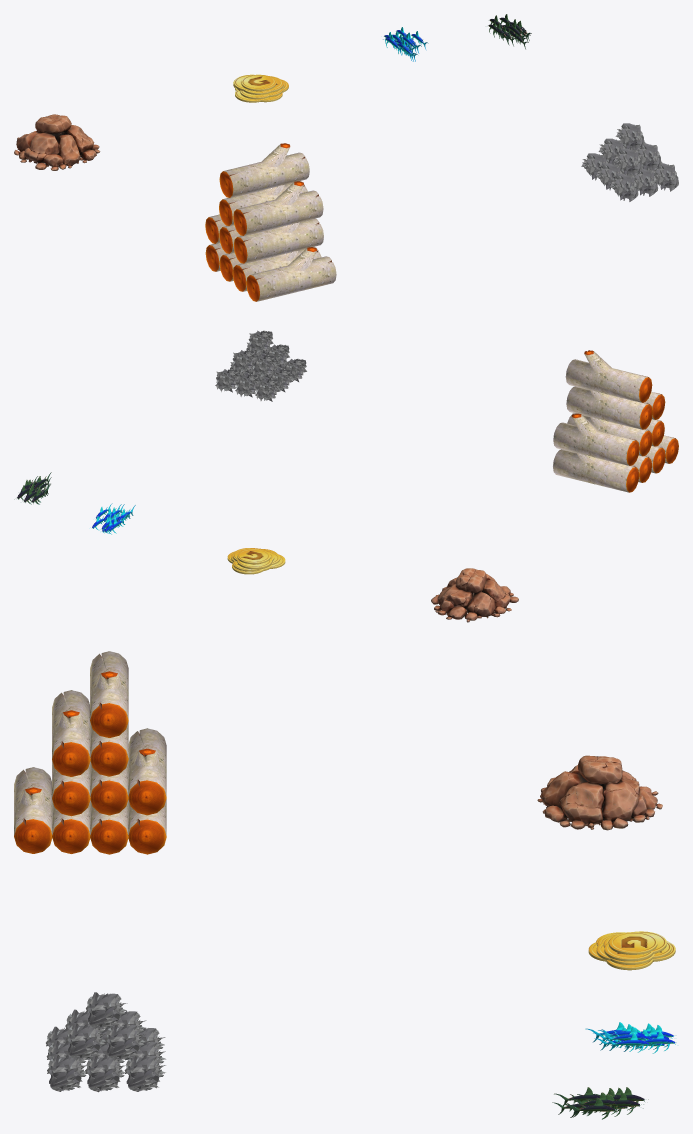
File: Building4Whole_INIT.glb
3 views of the same model, one above another, from view 1: azimuth 30°, elevation 25°; view 2: azimuth 150°, elevation 25°; view 3: azimuth 270°, elevation 25° (orthographic). The views are drawn at different scales.
Parts seen in each view (by area): view 1: Building4Whole_INIT; view 2: Building4Whole_INIT; view 3: Building4Whole_INIT.
Boxes of the visible parts, x1,y1,x2,y2 form: Building4Whole_INIT: (14, 14, 678, 301); Building4Whole_INIT: (14, 330, 678, 622); Building4Whole_INIT: (14, 651, 676, 1119).
Size of the model in its own units: 6.26 by 1.43 by 5.12.
8 materials, 7 textured.
